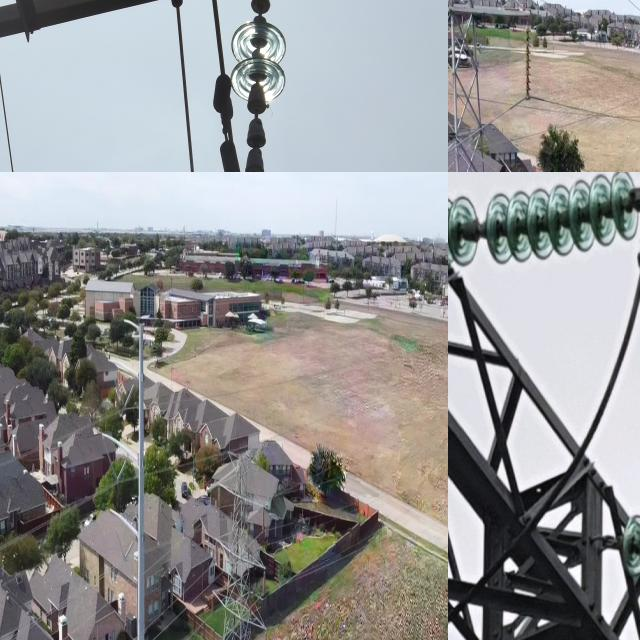杆塔: (448, 0, 542, 172), (210, 451, 275, 640)
正常绝缘子: (448, 172, 640, 273), (229, 0, 286, 172), (520, 16, 534, 105), (209, 588, 216, 618), (213, 540, 220, 568), (261, 503, 266, 537), (262, 566, 266, 600), (262, 627, 269, 640)
绝缘子破损: (246, 93, 270, 132), (244, 139, 267, 169), (250, 0, 271, 21), (471, 216, 484, 242), (244, 163, 264, 172)
